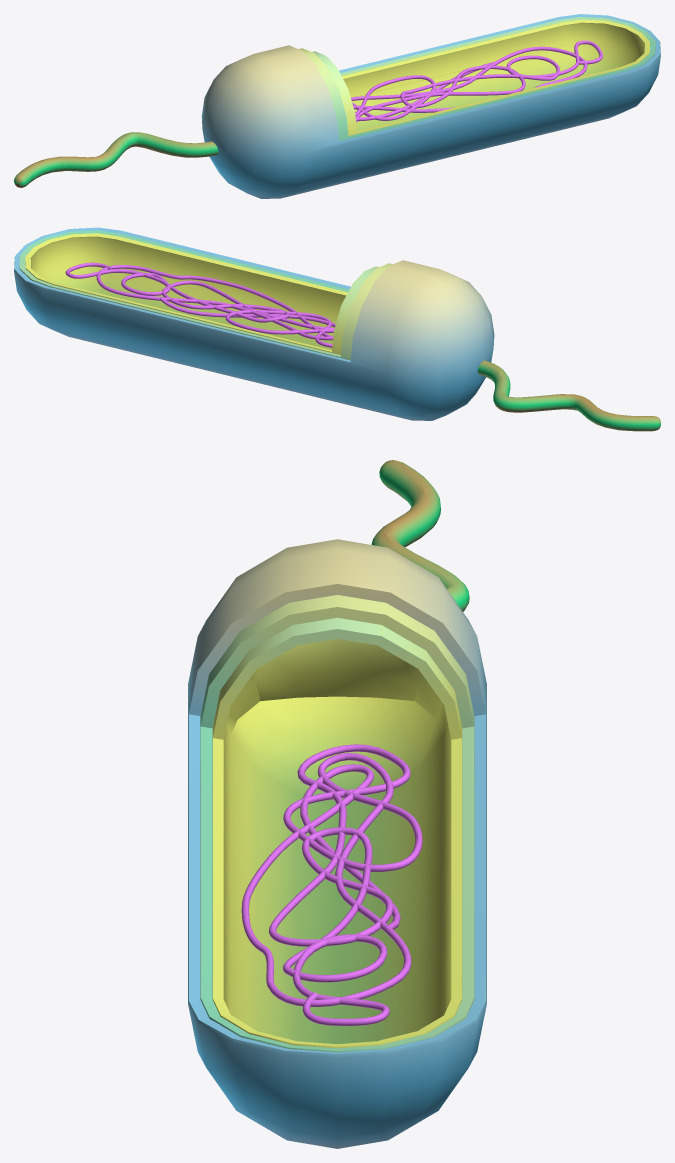
The model's file is SANTIAGO_AMORES_CEL.LULA_PROCARIOTA.fbx.
3 views of the same model, one above another, from view 1: azimuth 30°, elevation 25°; view 2: azimuth 150°, elevation 25°; view 3: azimuth 270°, elevation 25° (orthographic). The views are drawn at different scales.
Visible parts, largest first — view 1: CÁPSULA, MEMBRANA CELULAR, CUERDECITA, PARED CELULAR, NurbsPath.001; view 2: CÁPSULA, MEMBRANA CELULAR, CUERDECITA, PARED CELULAR, NurbsPath.001; view 3: MEMBRANA CELULAR, CÁPSULA, CUERDECITA, PARED CELULAR, NurbsPath.001.
Boxes of the visible parts, bbox=[...] form: CÁPSULA: bbox=[201, 14, 660, 198]; MEMBRANA CELULAR: bbox=[312, 19, 650, 135]; CUERDECITA: bbox=[351, 40, 602, 121]; PARED CELULAR: bbox=[299, 17, 655, 140]; NurbsPath.001: bbox=[14, 132, 218, 187]; CÁPSULA: bbox=[14, 227, 494, 420]; MEMBRANA CELULAR: bbox=[25, 233, 378, 354]; CUERDECITA: bbox=[65, 262, 335, 347]; PARED CELULAR: bbox=[19, 230, 392, 360]; NurbsPath.001: bbox=[477, 360, 660, 431]; MEMBRANA CELULAR: bbox=[212, 617, 462, 1048]; CÁPSULA: bbox=[188, 539, 486, 1148]; CUERDECITA: bbox=[241, 744, 422, 1025]; PARED CELULAR: bbox=[200, 595, 474, 1052]; NurbsPath.001: bbox=[371, 460, 469, 611].
Size of the model in its own units: 210 by 43.39 by 43.78.
5 materials, 4 textured.
